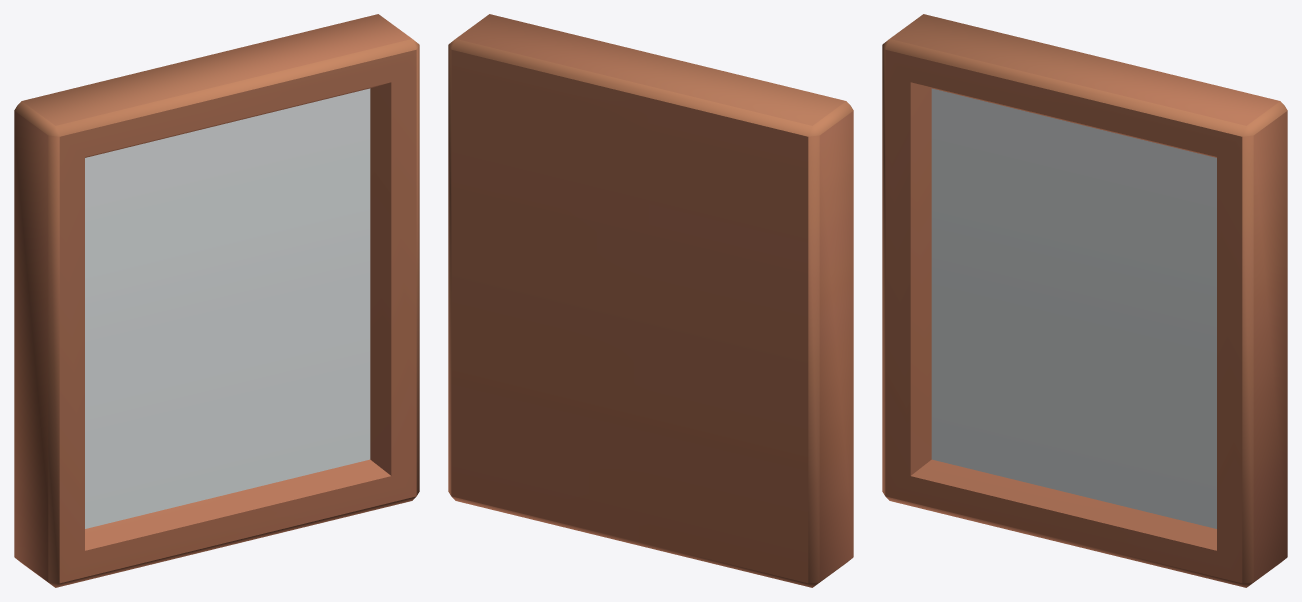
The model's file is tavla.glb.
The picture shows the model from 3 angles, left to right: view 1: azimuth 30°, elevation 25°; view 2: azimuth 150°, elevation 25°; view 3: azimuth 330°, elevation 25°; orthographic projection.
Parts seen in each view (by area): view 1: pictureframe_large_A; view 2: pictureframe_large_A; view 3: pictureframe_large_A.
Boxes of the visible parts, <box> form: pictureframe_large_A: <box>14,14,419,587</box>; pictureframe_large_A: <box>448,14,853,587</box>; pictureframe_large_A: <box>882,14,1287,587</box>.
Size of the model in its own units: 1.01 by 1.2 by 0.2.
1 material, 1 textured.
